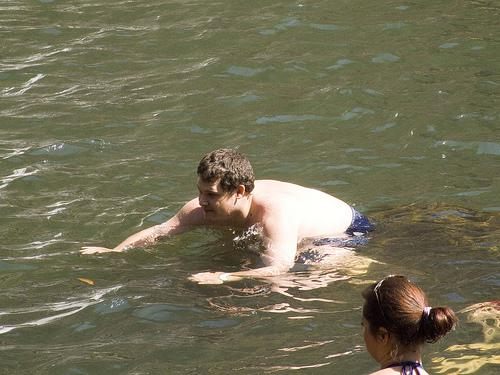human: (80, 145, 370, 285), (358, 272, 458, 374)
